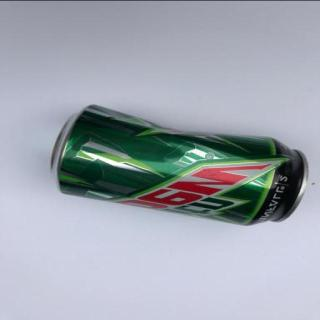Anorganik: (48, 102, 312, 228)
